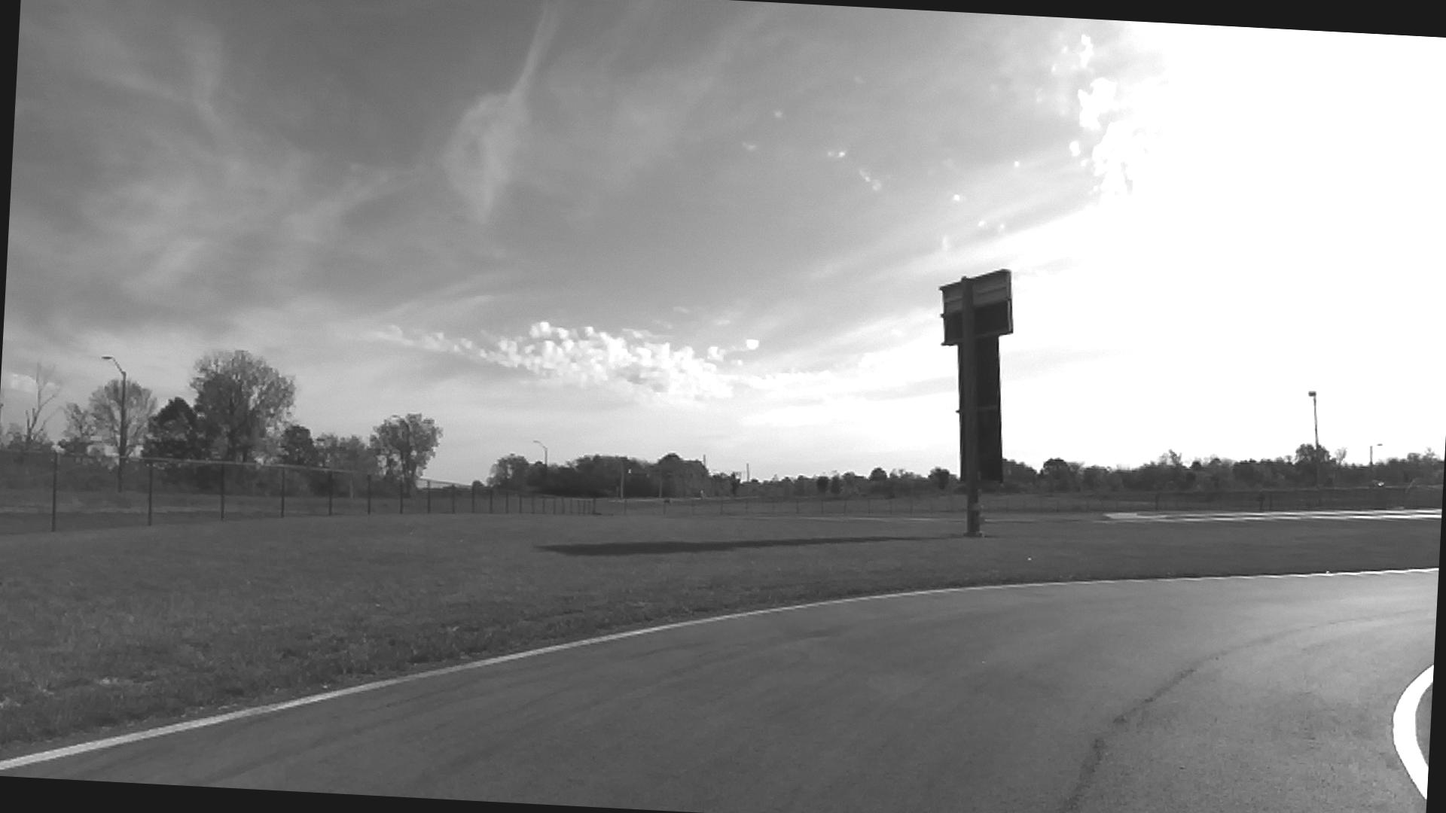white-line: (0, 576, 1259, 771), (1392, 665, 1433, 799), (1264, 567, 1439, 575)
